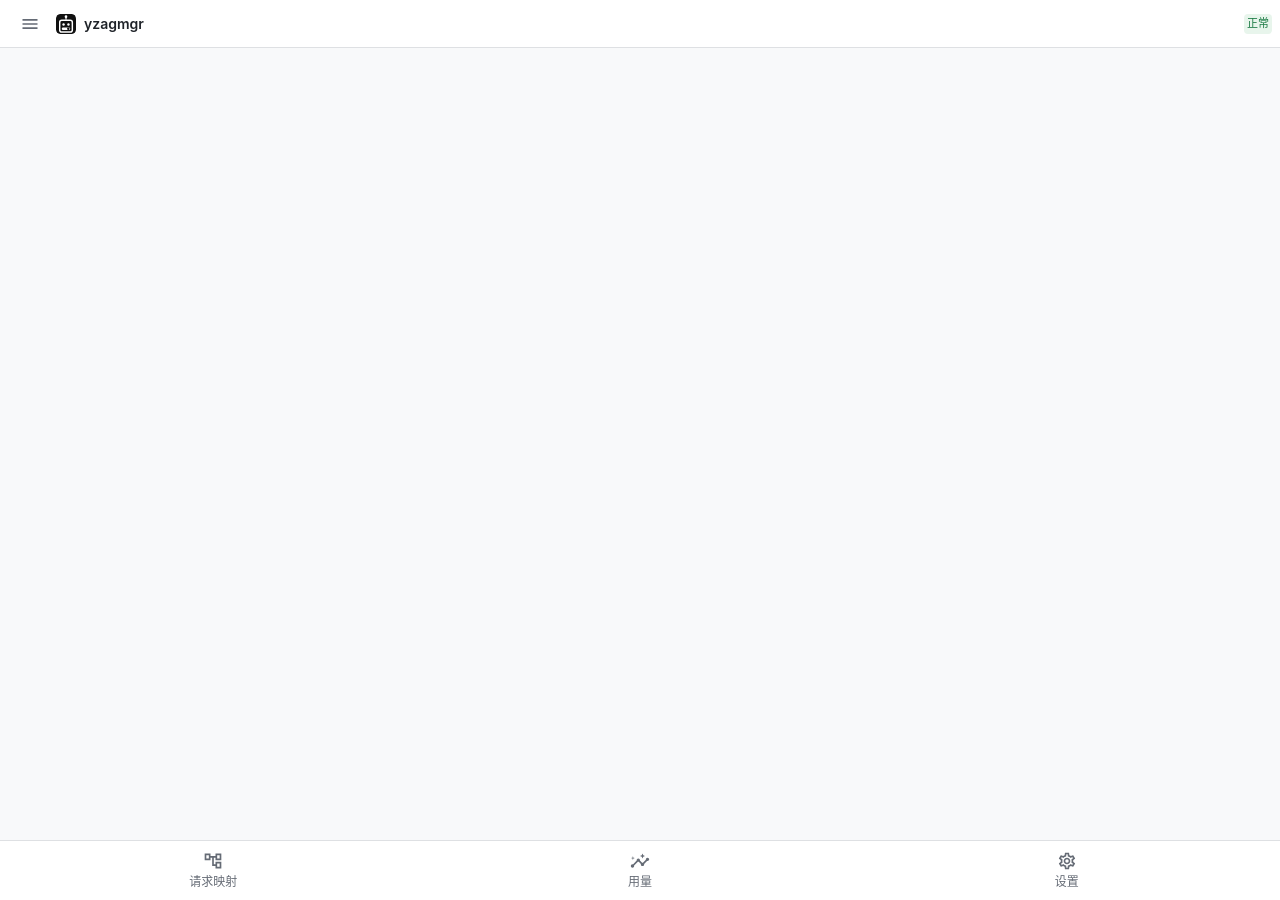
Scenario: shell AST gaps · actual navigation and keyboard journeys › 窄屏抽屉的真实导航链接选中后关闭抽屉并更新路由
Click the button named "打开导航".
click(30, 24)  # box top-left (8, 2), bottom-right (52, 46)
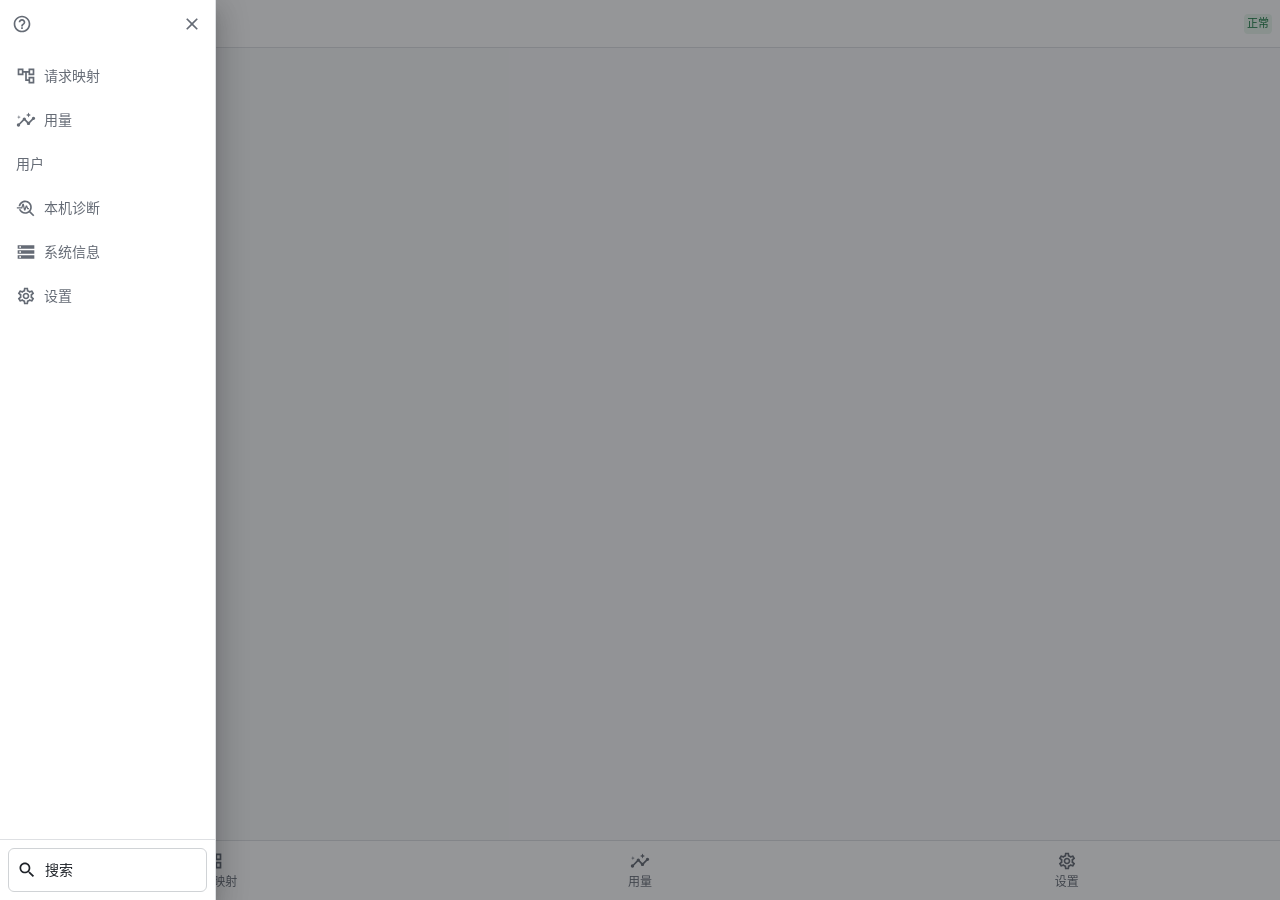
Click the link "用量".
click(44, 120)  # box top-left (16, 110), bottom-right (72, 130)
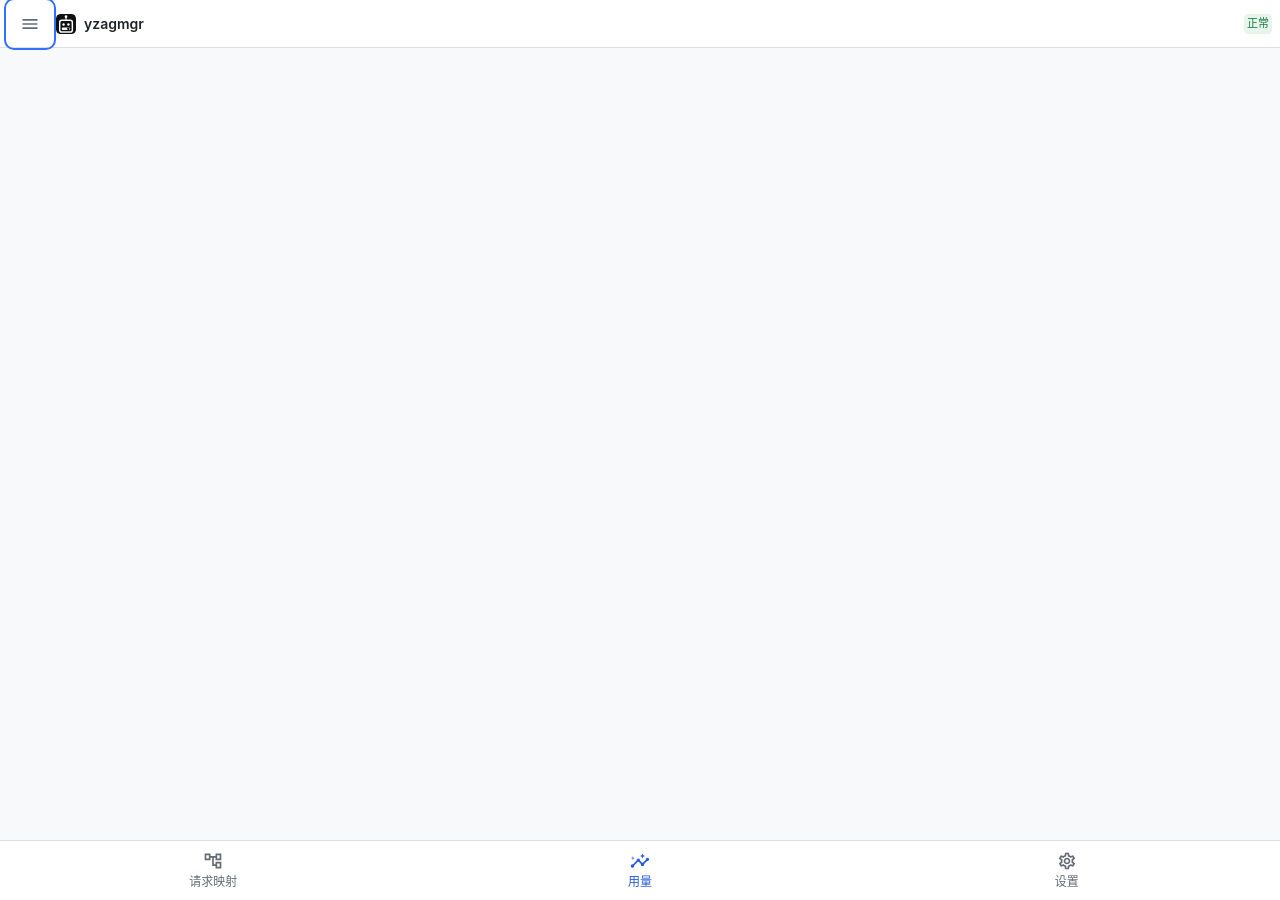
Result: the button with test id "shell-drawer-search" is gone
